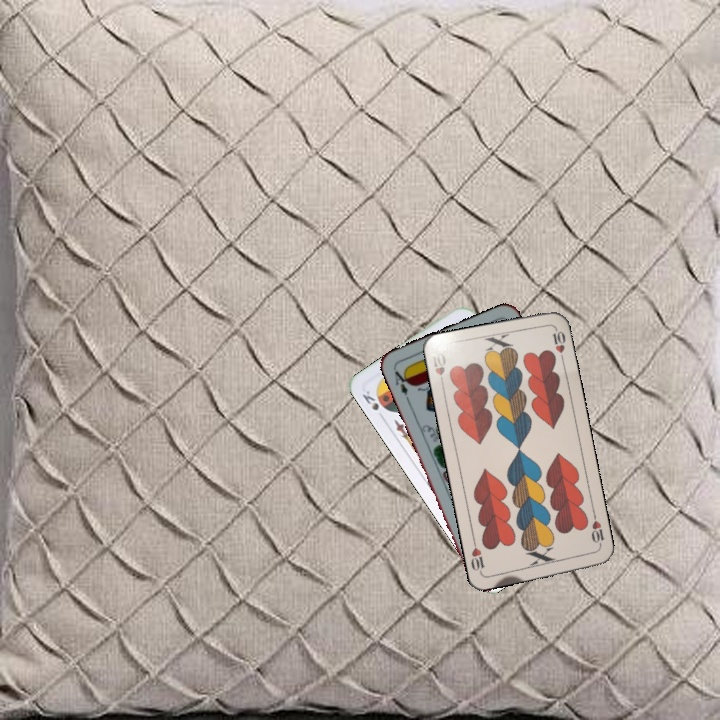EA: (390, 365, 413, 403)
H10: (427, 349, 448, 389), (587, 510, 607, 550)
SK: (358, 386, 382, 413)
